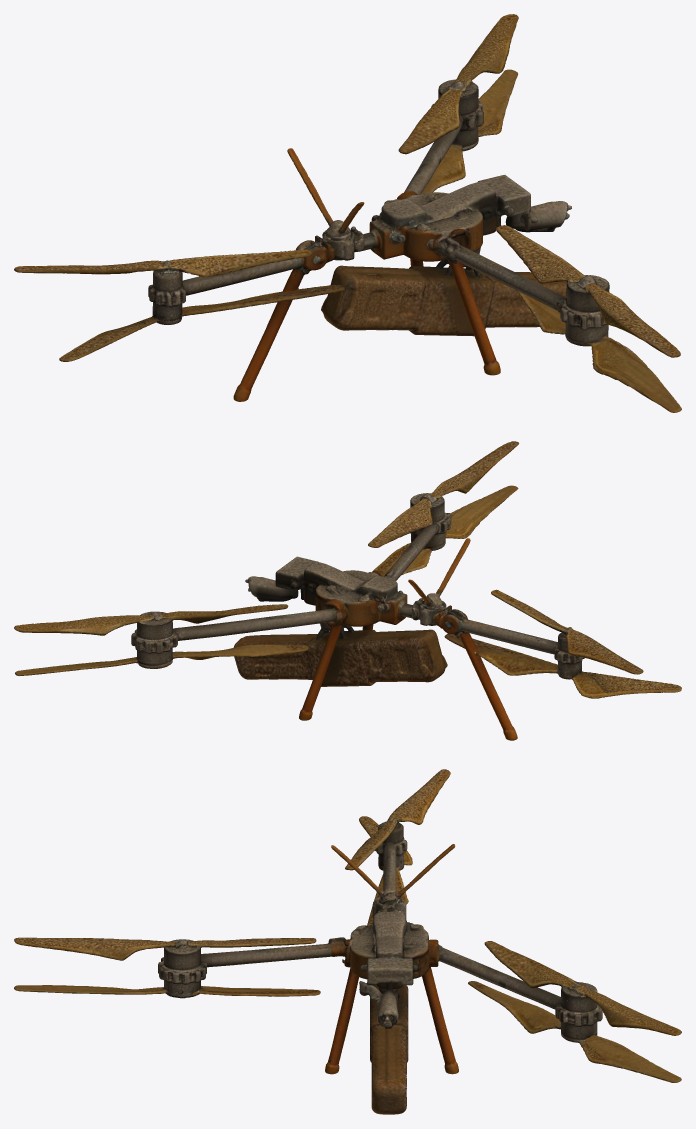
Rendered from Counter-Drone Drone.fbx.
The picture shows the model from 3 angles, top to bottom: view 1: azimuth 30°, elevation 25°; view 2: azimuth 150°, elevation 25°; view 3: azimuth 270°, elevation 25°; orthographic projection. The views are drawn at different scales.
Parts seen in each view (by area): view 1: tripo_node_ad6b8cf7; view 2: tripo_node_ad6b8cf7; view 3: tripo_node_ad6b8cf7.
Part boxes in pixels (<box>): tripo_node_ad6b8cf7: <box>14,14,681,412</box>; tripo_node_ad6b8cf7: <box>14,441,681,740</box>; tripo_node_ad6b8cf7: <box>14,769,681,1114</box>.
Bounding box in the file's own units: 0.941 × 0.2865 × 1.
